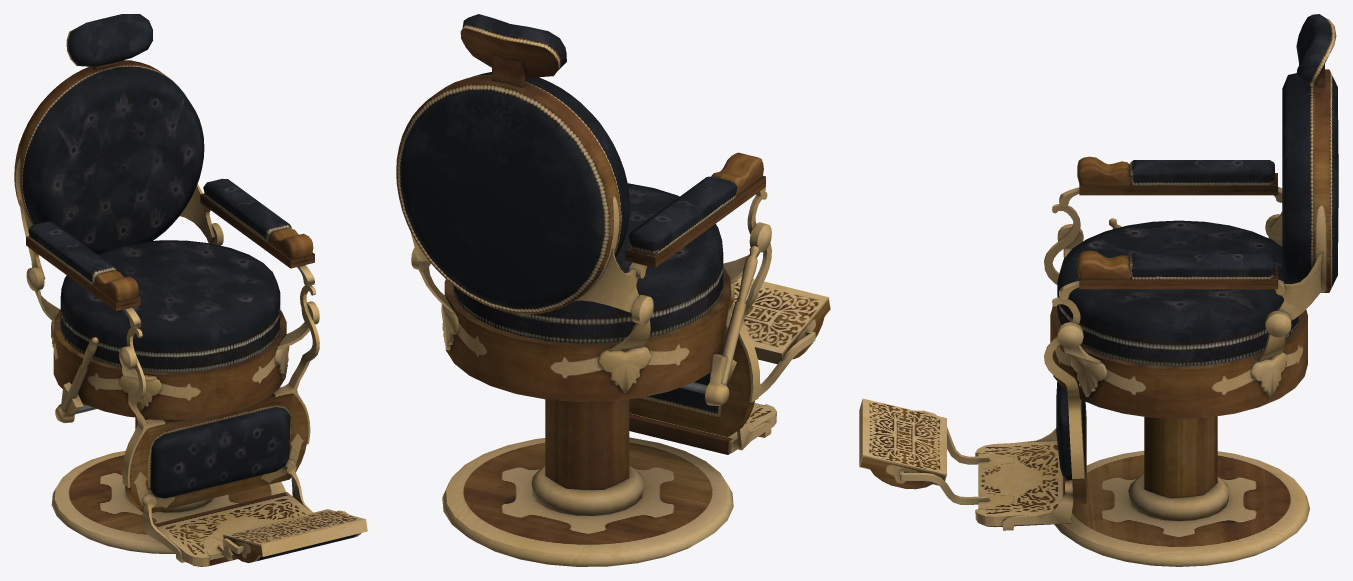
File: BarberShopChair_01.glb
3 views of the same model, side by side, from view 1: azimuth 30°, elevation 25°; view 2: azimuth 150°, elevation 25°; view 3: azimuth 270°, elevation 25° (orthographic). The views are drawn at different scales.
Parts seen in each view (by area): view 1: BarberShopChair_01; view 2: BarberShopChair_01; view 3: BarberShopChair_01.
Part boxes in pixels (left/top/right/bottom): BarberShopChair_01: left=14, top=14, right=367, bottom=566; BarberShopChair_01: left=396, top=14, right=830, bottom=566; BarberShopChair_01: left=859, top=14, right=1338, bottom=566.
Size of the model in its own units: 0.7566 by 1.49 by 1.33.
1 material, 1 textured.
